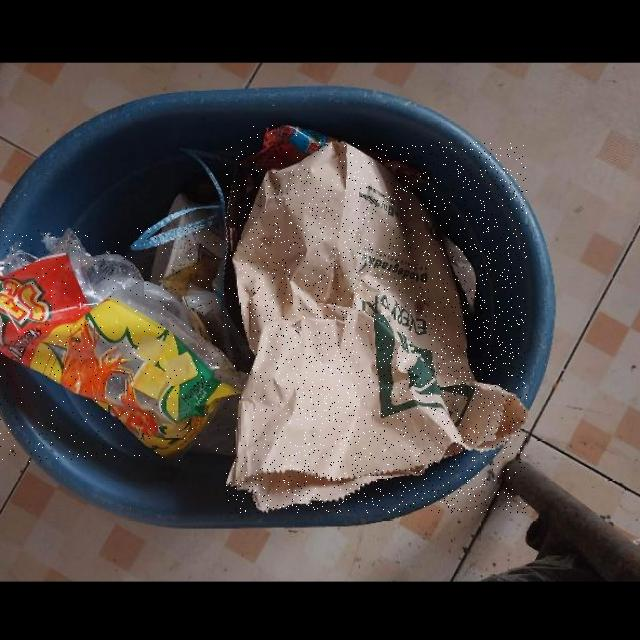paper: (226, 142, 527, 513)
wrapper: (0, 229, 249, 463), (240, 125, 338, 175)
